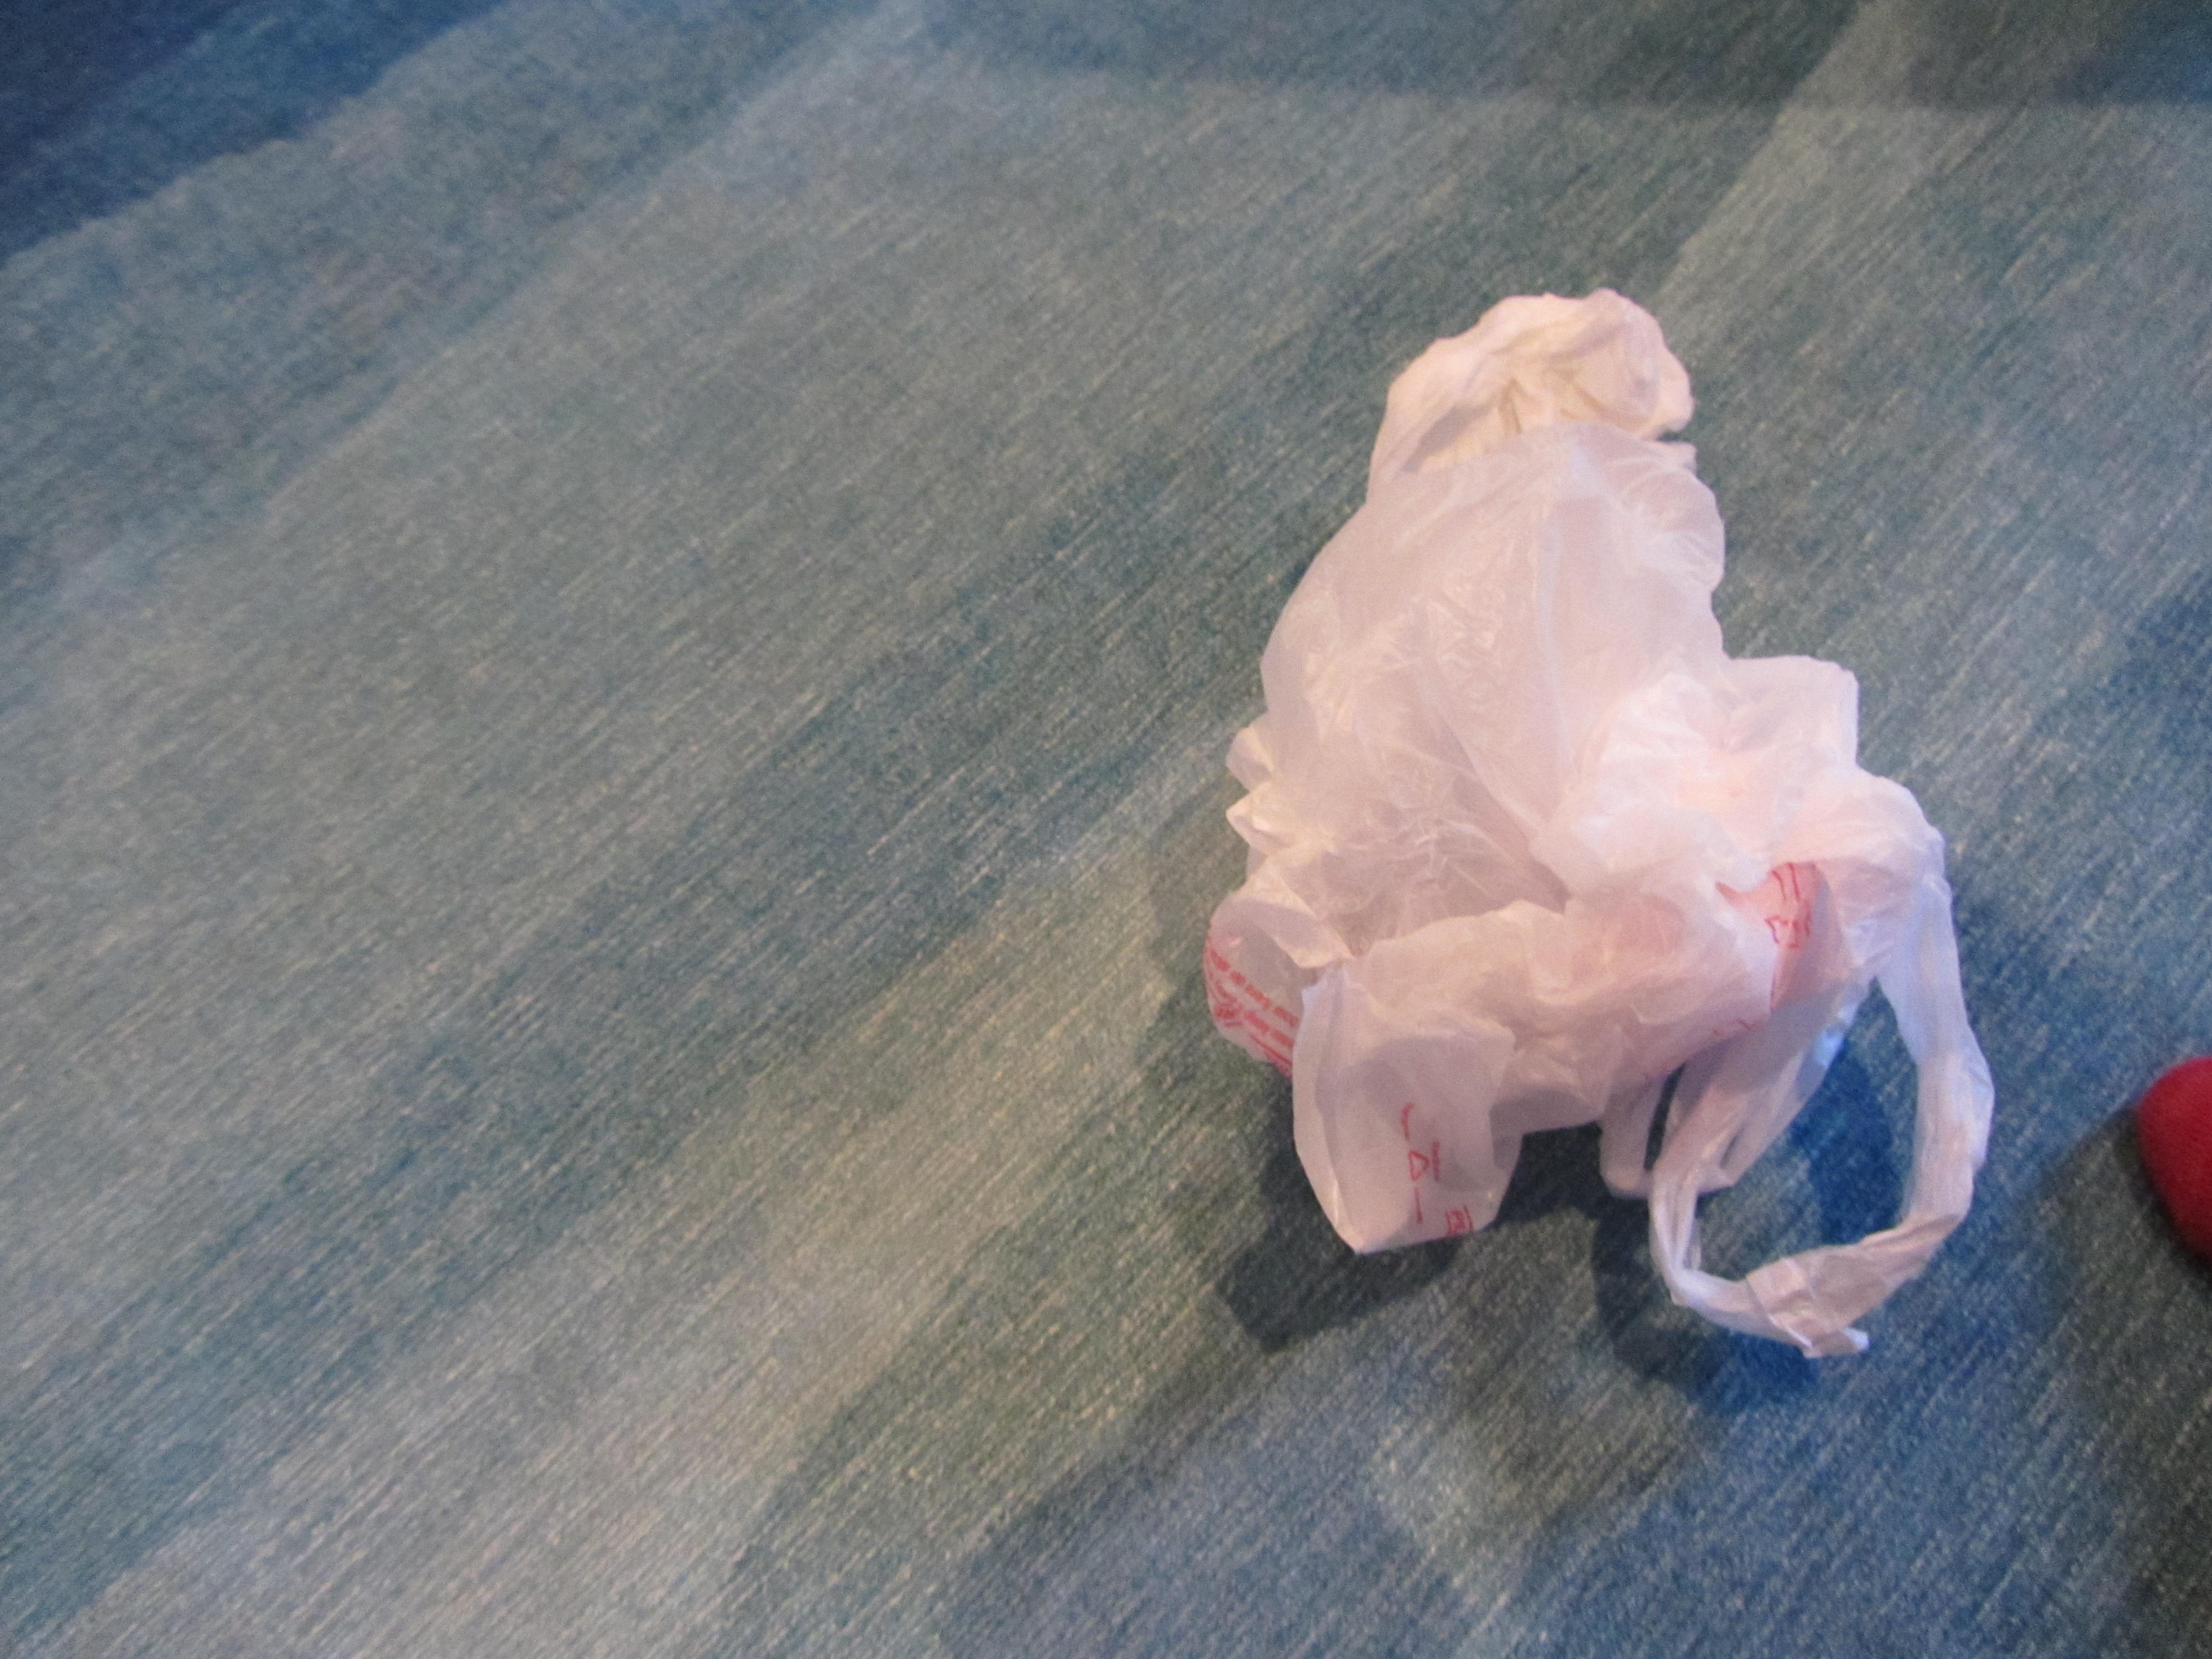plastic_bag: (1188, 289, 1991, 1363)
